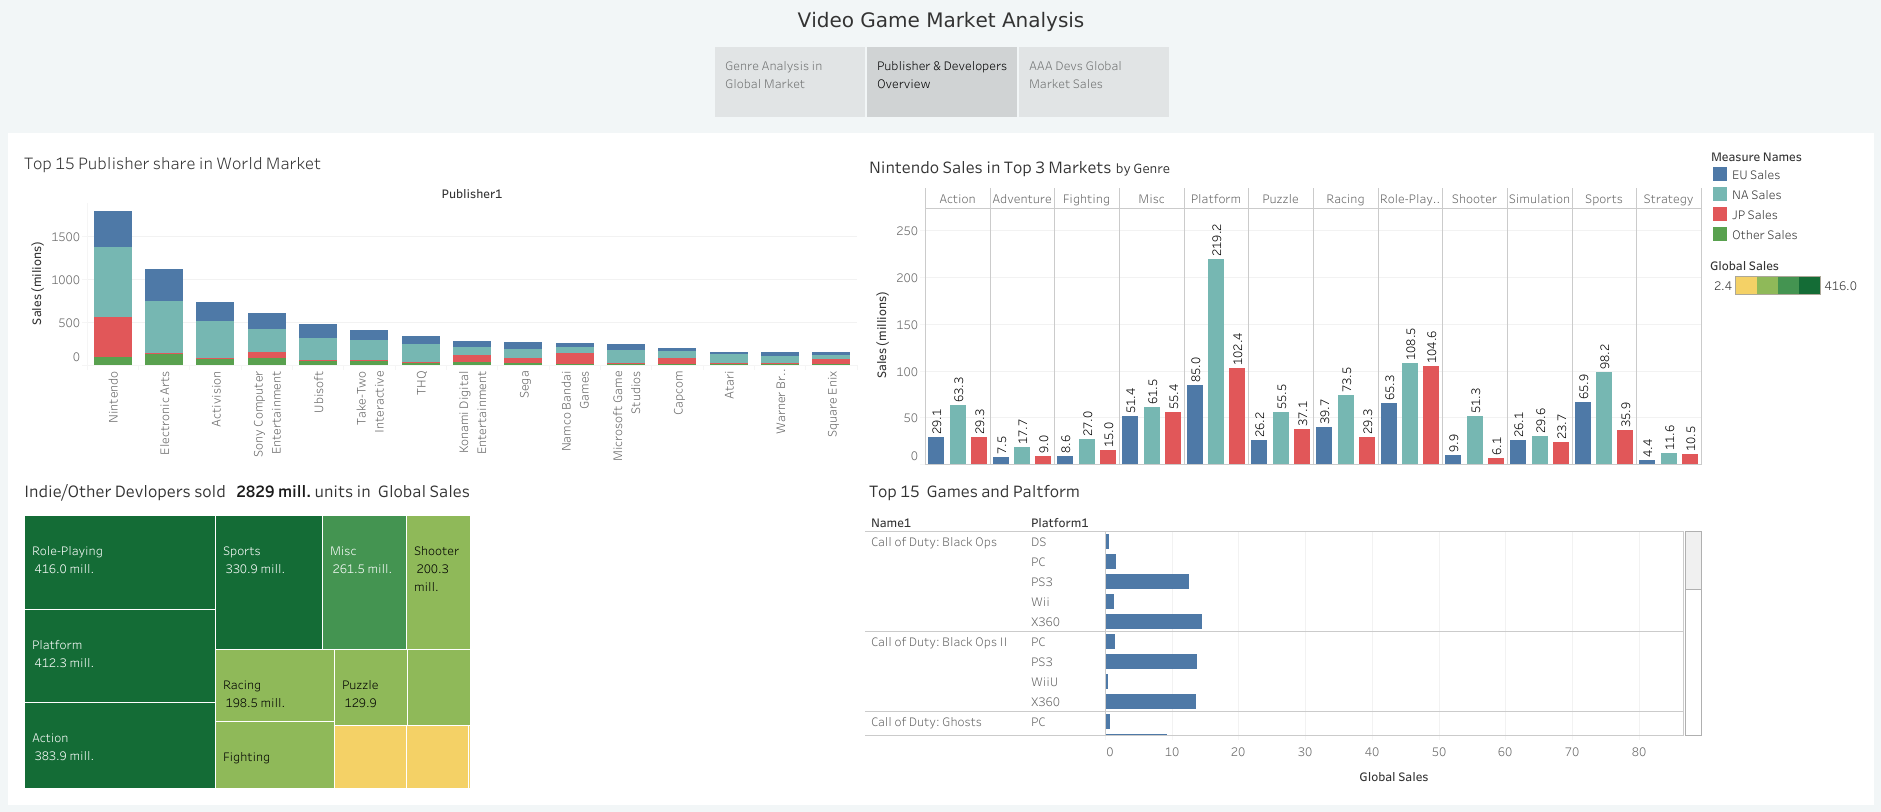

Layout of this report page (visuals, bound fields, positions):
{"tool":"tableau","page":{"name":"Dashboard 2","canvas":[1000,1000],"units":"permille","ordinal":1},"visuals":[{"type":"worksheet","box":[0,0,1000,1000]},{"type":"worksheet","param":"horz","box":[4.8,8.8,990.3,982.4]},{"type":"worksheet","box":[4.8,8.8,893.8,982.4]},{"type":"worksheet","title":"T15 Share","mark":"Automatic","cols":["Publisher"],"box":[4.8,8.8,446.9,491.2]},{"type":"worksheet","title":"Ntd Sales in Top3","mark":"Bar","cols":["Genre"],"box":[451.7,8.8,446.9,491.2]},{"type":"worksheet","param":"vert","box":[898.6,8.8,96.6,982.4]},{"type":"worksheet","title":"T15 Share","mark":"Automatic","cols":["Publisher"],"param":"[federated.1otucu51eeyddd1bluqfx1tcpcxh].[:Measure Names]","box":[898.6,8.8,96.6,125.1]},{"type":"worksheet","title":"Indie/Other","mark":"Automatic","param":"[federated.1otucu51eeyddd1bluqfx1tcpcxh].[sum:Global_Sales:qk]","box":[898.6,133.9,96.6,80.1]},{"type":"worksheet","title":"Indie/Other","mark":"Automatic","box":[4.8,500,446.9,491.2]},{"type":"worksheet","title":"Top 10 Pub","mark":"Automatic","rows":["Name","Platform"],"cols":["Global_Sales"],"box":[451.7,500,446.9,491.2]}]}

Visuals, with their boxes on the dashboard's canvas, which has no fixed pixel size, in thousandths of its width and height (x1, y1, x2, y2). These are canvas units, not pixel positions in the 1881x812 screenshot, which may show the page scaled, cropped or inside an application window:
worksheet: bbox=(0, 0, 1000, 1000)
worksheet: bbox=(5, 9, 995, 991)
worksheet: bbox=(5, 9, 899, 991)
"T15 Share" worksheet: bbox=(5, 9, 452, 500)
"Ntd Sales in Top3" worksheet (Bar marks): bbox=(452, 9, 899, 500)
worksheet: bbox=(899, 9, 995, 991)
"T15 Share" worksheet: bbox=(899, 9, 995, 134)
"Indie/Other" worksheet: bbox=(899, 134, 995, 214)
"Indie/Other" worksheet: bbox=(5, 500, 452, 991)
"Top 10 Pub" worksheet: bbox=(452, 500, 899, 991)
